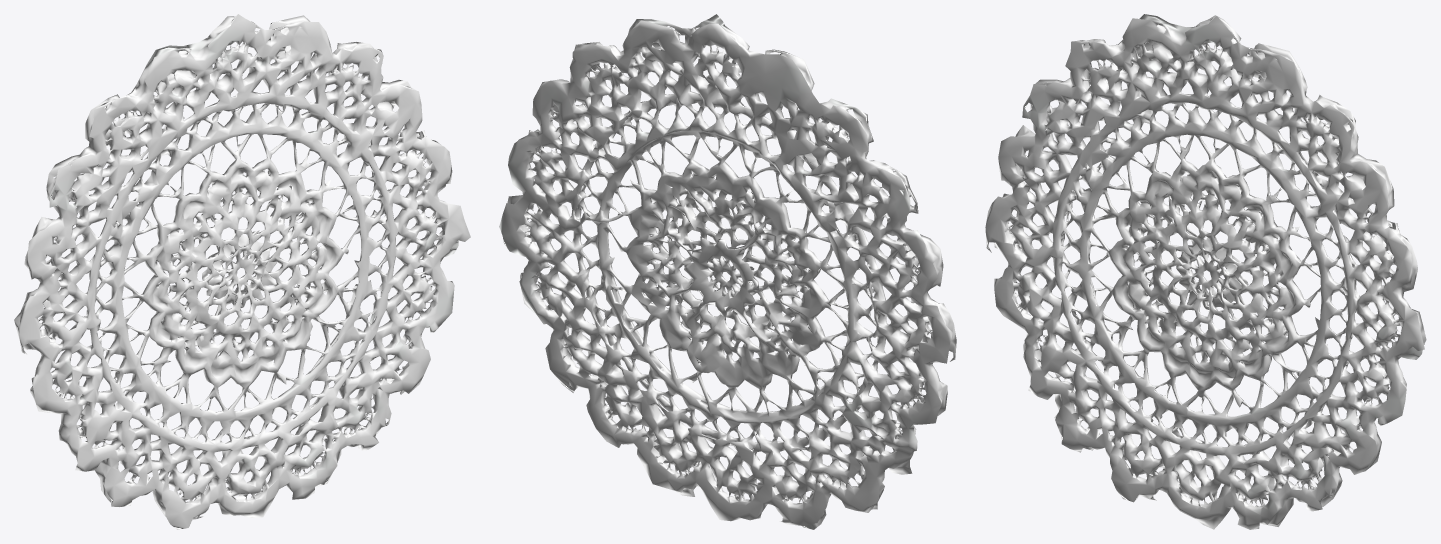
File: agatha_doily.glb
3 renders of one model, left to right at view 1: azimuth 30°, elevation 25°; view 2: azimuth 150°, elevation 25°; view 3: azimuth 330°, elevation 25°, orthographic. The views are drawn at different scales.
Bounding box in the file's own units: 0.8855 × 0.9445 × 0.0888.
Materials: 1 (1 with a texture image).
